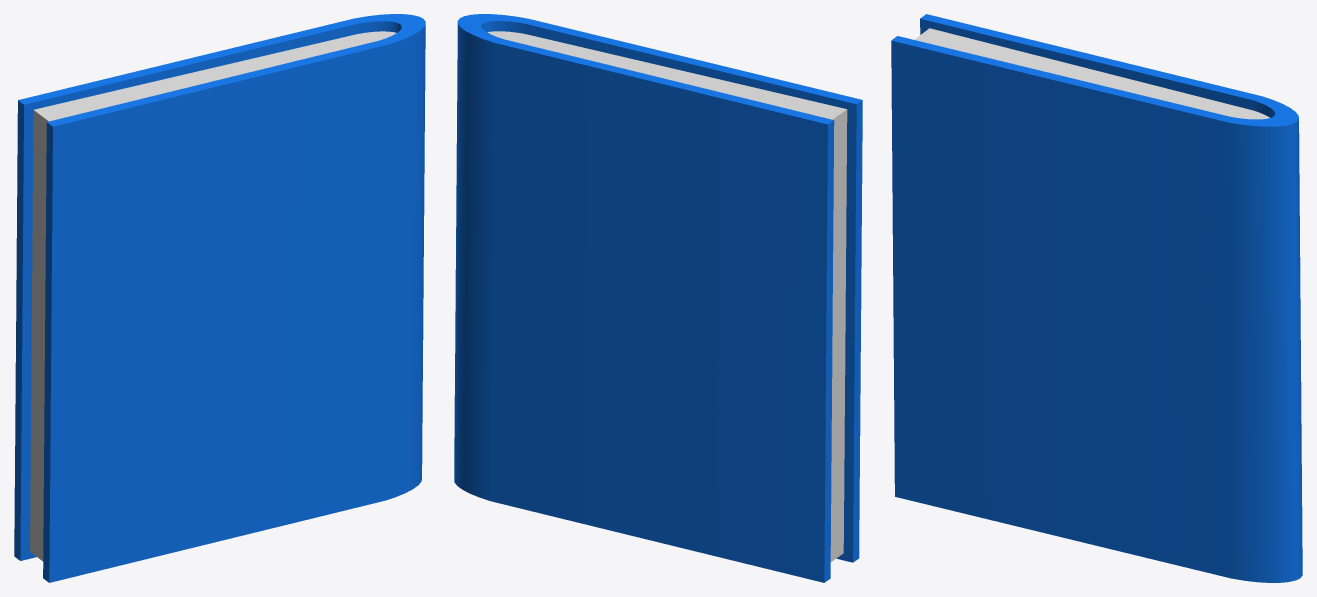
File: Libro.008.glb
The picture shows the model from 3 angles, left to right: view 1: azimuth 30°, elevation 25°; view 2: azimuth 150°, elevation 25°; view 3: azimuth 330°, elevation 25°; orthographic projection.
Visible parts, largest first — view 1: Caballete_Libro.008; view 2: Caballete_Libro.008; view 3: Caballete_Libro.008.
Boxes of the visible parts, x1,y1,x2,y2 form: Caballete_Libro.008: (14, 14, 425, 582); Caballete_Libro.008: (454, 14, 862, 582); Caballete_Libro.008: (891, 14, 1302, 582).
Size of the model in its own units: 0.2625 by 0.2972 by 0.0454.
